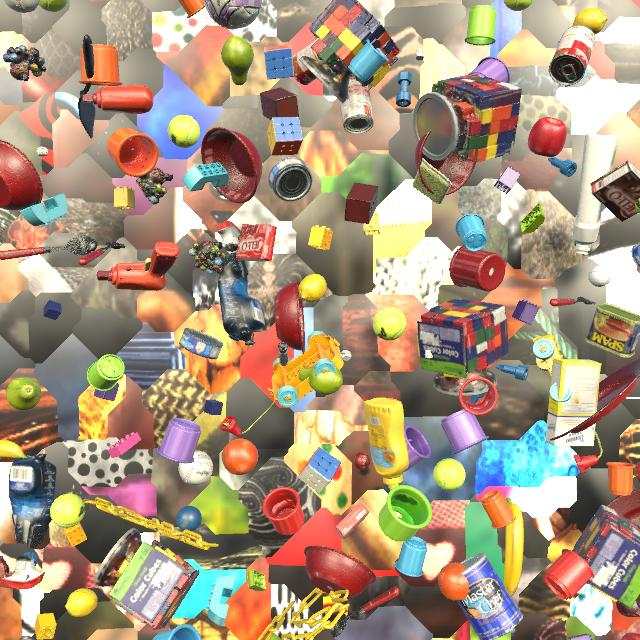ycb_002_master_chef_can: (456, 553, 523, 640)
ycb_004_sugar_box: (546, 359, 602, 446)
ycb_005_tomato_soup_can: (549, 25, 596, 85), (340, 76, 374, 134), (292, 38, 326, 85)
ycb_006_mustard_bottle: (364, 398, 409, 490)
ycb_007_tuna_fish_can: (268, 157, 312, 201), (179, 328, 224, 359), (631, 242, 640, 269)
ycb_008_pudding_box: (590, 161, 640, 222)
ycb_009_gelatin_box: (236, 223, 277, 262), (335, 502, 369, 539)
ycb_010_potted_meat_can: (585, 303, 640, 358)
ycb_011_banana: (504, 497, 524, 597), (0, 440, 27, 458)
ycb_012_strawberry: (633, 462, 640, 482)
ycb_013_apple: (528, 117, 567, 157), (621, 633, 640, 640)
ycb_014_lemon: (65, 588, 98, 617), (573, 8, 608, 34), (299, 274, 327, 302)
ycb_016_pear: (221, 36, 254, 85), (298, 366, 343, 395), (6, 377, 41, 410)
ycb_017_orange: (222, 439, 258, 475), (438, 562, 469, 600)
ycb_018_plum: (616, 601, 640, 617)
